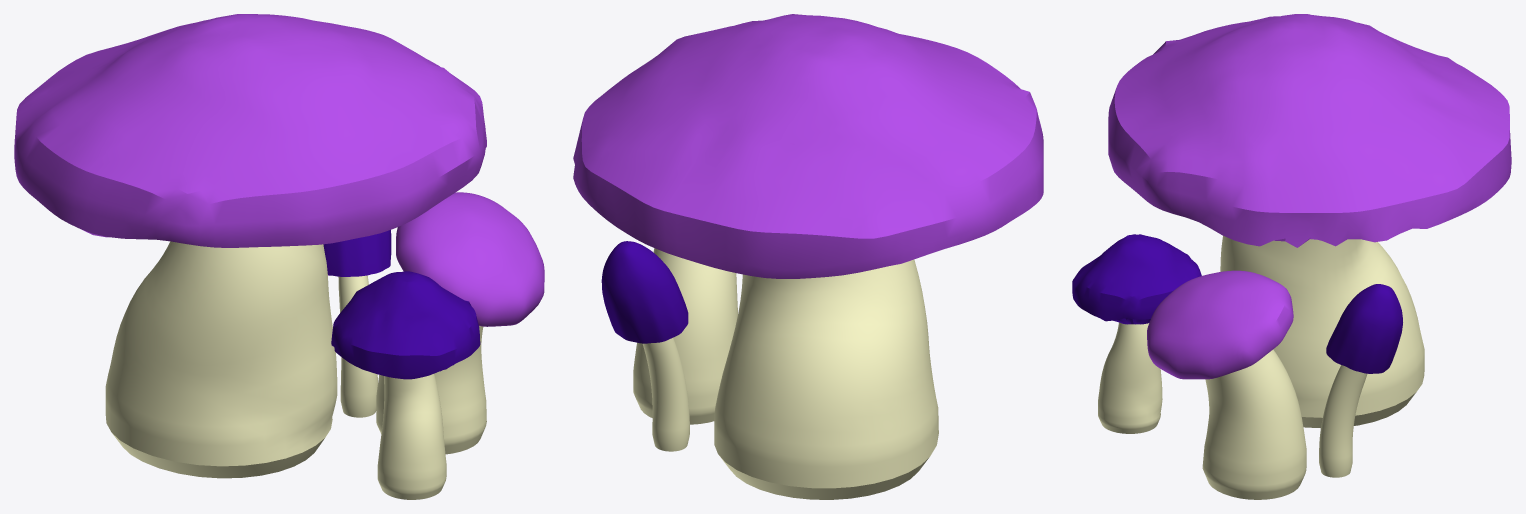
File: mushrooms_three.glb
The picture shows the model from 3 angles, left to right: view 1: azimuth 30°, elevation 25°; view 2: azimuth 150°, elevation 25°; view 3: azimuth 270°, elevation 25°; orthographic projection. The views are drawn at different scales.
Visible parts, largest first — view 1: group 3; view 2: group 3; view 3: group 3.
Part boxes in pixels (x1=…): group 3: x1=14, y1=14, x2=544, y2=499; group 3: x1=573, y1=14, x2=1043, y2=499; group 3: x1=1072, y1=14, x2=1511, y2=499.
Size of the model in its own units: 0.9024 by 0.8182 by 0.8561.
